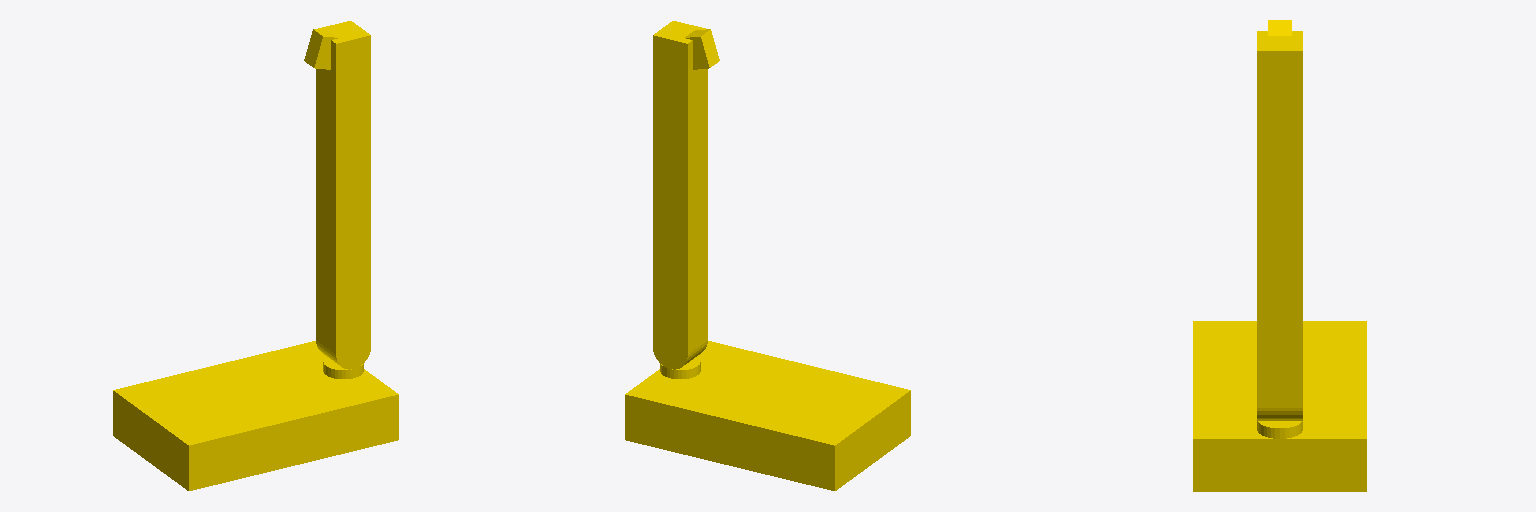
URDF robot description (rover_crane_old):
<?xml version="1.0" ?>
<robot name="rover_crane_old">

    <material name="black">
        <color rgba="0 0 0 1"/>
    </material>
    <material name="gold">
        <color rgba="1 0.882 0 1"/>
    </material>
    <material name="lunar_surface">
        <color rgba="0.85 0.85 0.85 1"/>
    </material>

<!-- OLD ROVER -->
<!-- Base -->
    <link name="rover_base_link">        
        <visual>
            <origin xyz="0 0 0.25" rpy="0 0 0" />
            <geometry>
               <box size="2.4 1.5 0.5"/>
            </geometry>
            <material name="gold"/>
        </visual>
        <collision>
            <origin xyz="0 0 0.25" rpy="0 0 0" />
            <geometry>
                <box size="2.4 1.5 0.5"/>
            </geometry>
        </collision>   
    </link>
    
    <link name="crane_yaw">
        <visual>
            <origin xyz="0 0 0.05" rpy="0 0 0" />
            <geometry>
               <cylinder length="0.1" radius="0.2"/>
            </geometry>
            <material name="gold"/>
        </visual>
        <collision>
            <origin xyz="0 0 0.05" rpy="0 0 0" />
            <geometry>
                <cylinder length="0.1" radius="0.2"/>
            </geometry>
        </collision>    
    </link>
    
    <joint name="joint0_1" type="revolute">
        <parent link="rover_base_link"/>
        <child link="crane_yaw"/>
        <origin xyz="1 0 0.5" rpy="0 0 0"/>
        <axis xyz="0 0 1"/>
        <limit lower="-0.523599" upper="0.523599" effort="0" velocity="0"/>
    </joint>

    <link name="crane_link1">
        <visual>
            <origin xyz="0 0 0" rpy="1.5708 0 0" />
            <geometry>
               <cylinder length="0.4" radius="0.2"/>
            </geometry>
            <material name="gold"/>
        </visual>
        <collision>
            <origin xyz="0 0 0" rpy="1.5708 0 0" />
            <geometry>
                <cylinder length="0.4" radius="0.2"/>
            </geometry>
        </collision>  

        <visual>
            <origin xyz="-1.698 0 0" rpy="0 0 0" />
            <geometry>
               <box size="3.396 0.4 0.4"/>
            </geometry>
            <material name="gold"/>
        </visual>
        <collision>
            <origin xyz="-1.698 0 0" rpy="0 0 0" />
            <geometry>
                <box size="3.396 0.4 0.4"/>
            </geometry>
        </collision>
    </link>


    <joint name="joint0_2" type="revolute">
        <parent link="crane_yaw"/> 
        <child link="crane_link1"/>
        <origin xyz="0 0 0.3" rpy="0 1.5708 0"/>
        <axis xyz="0 1 0"/>
        <limit lower="0.0" upper="1.5708" effort="0" velocity="0"/>
    </joint>


    <link name="crane_link2">
        <visual>
            <origin xyz="1.132 0 0" rpy="0 0 0" />
            <geometry>
               <box size="2.264 0.2 0.2"/>
            </geometry>
            <material name="gold"/>
        </visual>
        <collision>
            <origin xyz="1.132 0 0" rpy="0 0 0" />
            <geometry>
                <box size="2.264 0.2 0.2"/>
            </geometry>
        </collision>
    </link>

    <joint name="joint0_3" type="prismatic">
        <parent link="crane_link1"/>
        <child link="crane_link2"/>
        <origin xyz="-3.396 0 0" rpy="0 0 0"/>
        <axis xyz="-1 0 0"/>
        <limit lower="0.0" upper="2.264" effort="0" velocity="0"/>
    </joint>
    
    <link name="tip">
        <visual>
            <!-- z = (-0.17 - 0.1) -->
            <origin xyz="-0.1 0 -0.17" rpy="0 1.5708 0" />
            <geometry>
               <box size="0.34 0.2 0.2"/>
            </geometry>
            <material name="gold"/>
        </visual>
        <collision>
            <origin xyz="-0.1 0 -0.17" rpy="0 1.5708 0" />
            <geometry>
                <box size="0.34 0.2 0.2"/>
            </geometry>
        </collision>   
    </link>

    <joint name="tip_joint" type="fixed">
        <parent link="crane_link2"/>
        <child link="tip"/>
        <origin xyz="0 0 -0.1" rpy="0 -1.26165662836 0"/>
    </joint>

</robot>

--- Facts derived from the render (not from the file) ---
Views: 3 orthographic renders of the robot side by side, from view 1: azimuth 30°, elevation 25°; view 2: azimuth 150°, elevation 25°; view 3: azimuth 270°, elevation 25°.
Robot: rover_crane_old — 5 links, 4 joints (2 revolute, 1 prismatic, 1 fixed); root link rover_base_link; default pose: every joint at zero.
Visible links, largest first — view 1: rover_base_link, crane_link1, tip; view 2: rover_base_link, crane_link1, tip; view 3: rover_base_link, crane_link1, crane_yaw.
Boxes of the visible links, x1=… form: rover_base_link: x1=113, y1=341, x2=398, y2=490; crane_link1: x1=316, y1=21, x2=370, y2=369; tip: x1=304, y1=29, x2=338, y2=69; rover_base_link: x1=625, y1=341, x2=910, y2=490; crane_link1: x1=653, y1=21, x2=707, y2=369; tip: x1=685, y1=29, x2=719, y2=69; rover_base_link: x1=1193, y1=321, x2=1366, y2=491; crane_link1: x1=1257, y1=31, x2=1302, y2=420; crane_yaw: x1=1257, y1=421, x2=1302, y2=438.
Bounding box of the posed robot: 2.4 × 1.5 × 4.26 m (x, y, z).
Geometry: primitives only (box / cylinder / sphere), no mesh files.